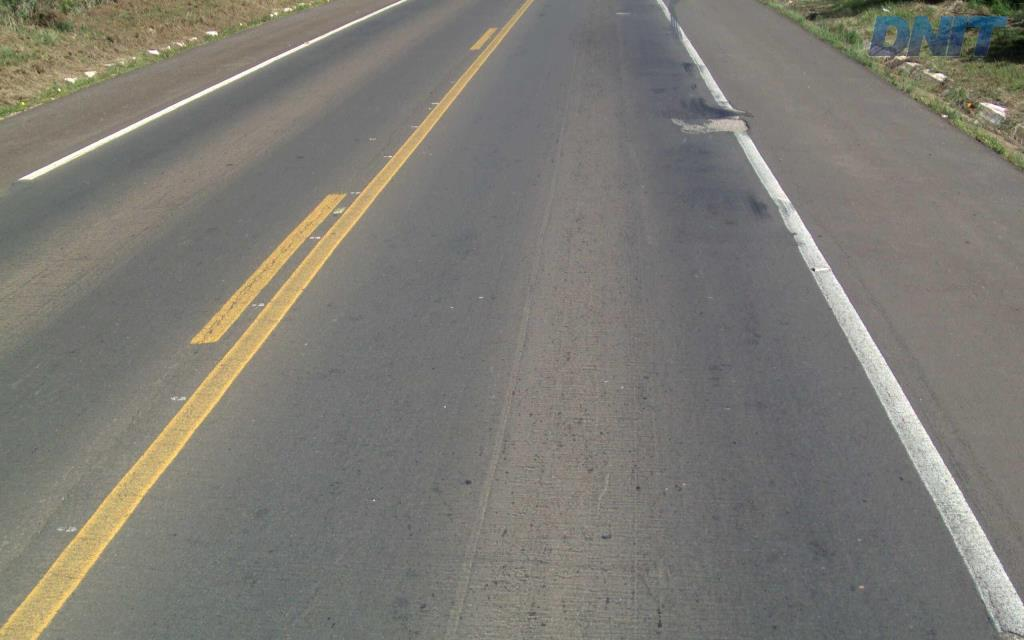pothole: (664, 112, 748, 141)
